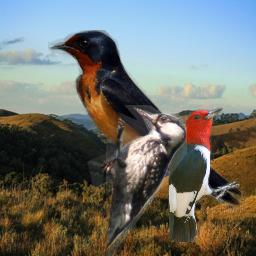Swallow: (48, 30, 243, 210)
Woodpecker: (106, 105, 187, 256), (167, 107, 240, 242)
